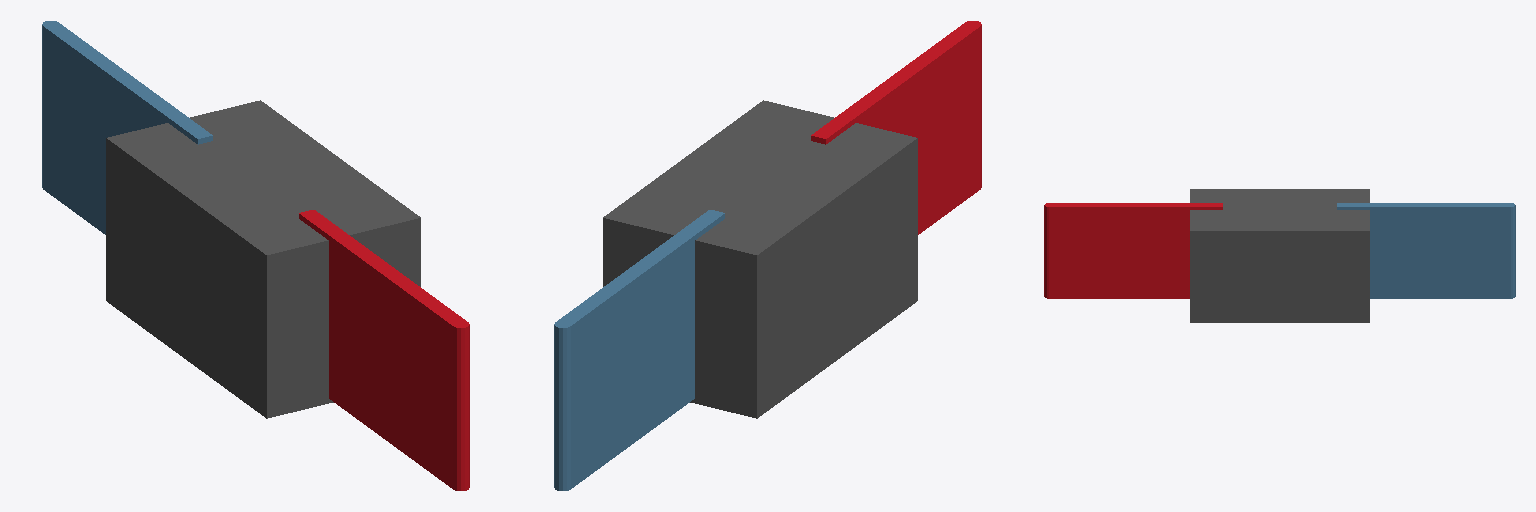
URDF robot description (simulation_assembly):
<?xml version="1.0" encoding="utf-8"?>
<!-- This URDF was automatically created by SolidWorks to URDF Exporter! Originally created by [author] ([email redacted])
     Commit Version: 1.5.1-0-g916b5db  Build Version: 1.5.7152.31018
     For more information, please see http://wiki.ros.org/sw_urdf_exporter -->
<robot
  name="simulation_assembly">
  <link
    name="base_link">
    <contact>
        <lateral_friction value="0.15"/>
        <angular_friction value="0.3"/>
    </contact>
    <inertial>
      <origin
        xyz="0 0 0.01515"
        rpy="0 0 0" />
      <mass
        value="0.033918" />
      <inertia
        ixx="1.0837E-05"
        ixy="0"
        ixz="0"
        iyy="5.1389E-06"
        iyz="0"
        izz="1.0786E-05" />
    </inertial>
    <visual>
      <origin
        xyz="0 0 0"
        rpy="0 0 0" />
      <geometry>
        <mesh
          filename="../meshes/base_link.STL" />
      </geometry>
      <material
        name="gray">
        <color
          rgba="0.4 0.4 0.4 1" />
      </material>
    </visual>
    <collision>
      <origin
        xyz="0 0 0"
        rpy="0 0 0" />
      <geometry>
        <mesh
          filename="../meshes/base_link.STL" />
      </geometry>
    </collision>
  </link>
  <link
    name="arm_left">
    <contact>
        <lateral_friction value="0"/>
    </contact>
    <inertial>
      <origin
        xyz="0.029809 -0.018645 5.48789273350911E-19"
        rpy="0 0 0" />
      <mass
        value="0.0039781" />
      <inertia
        ixx="5.233E-07"
        ixy="-8.0787E-08"
        ixz="0"
        iyy="6.4754E-07"
        iyz="0"
        izz="1.1611E-06" />
    </inertial>
    <visual>
      <origin
        xyz="0 0 0"
        rpy="0 0 0" />
      <geometry>
        <mesh
          filename="../meshes/arm.STL" />
      </geometry>
      <material
        name="blue">
        <color
          rgba="0.36 0.54 0.66 1" />
      </material>
    </visual>
    <collision>
      <origin
        xyz="0 0 0"
        rpy="0 0 0" />
      <geometry>
        <mesh
          filename="../meshes/arm.STL" />
      </geometry>
    </collision>
  </link>
  <joint
    name="servo_left"
    type="revolute">
    <origin
      xyz="-0.0015 0.0212 0.001"
      rpy="0 0 1.57075" />
    <parent
      link="base_link" />
    <child
      link="arm_left" />
    <axis
      xyz="0 0 1" />
    <limit
      lower="-1.8"
      upper="1.8"
      effort="0.01"
      velocity="6" />
  </joint>
  <link
    name="arm_right">
    <contact>
        <lateral_friction value="0"/>
    </contact>
    <inertial>
      <origin
        xyz="0.029809 -0.018645 5.48789273350911E-19"
        rpy="0 0 0" />
      <mass
        value="0.0039781" />
      <inertia
        ixx="5.233E-07"
        ixy="-8.0787E-08"
        ixz="0"
        iyy="6.4754E-07"
        iyz="0"
        izz="1.1611E-06" />
    </inertial>
    <visual>
      <origin
        xyz="0 0 0"
        rpy="0 0 0" />
      <geometry>
        <mesh
          filename="../meshes/arm.STL" />
      </geometry>
      <material
        name="red">
        <color
          rgba="0.83 0.13 0.18 1" />
      </material>
    </visual>
    <collision>
      <origin
        xyz="0 0 0"
        rpy="0 0 0" />
      <geometry>
        <mesh
          filename="../meshes/arm.STL" />
      </geometry>
    </collision>
  </link>
  <joint
    name="servo_right"
    type="revolute">
    <origin
      xyz="-0.0015 -0.0212 0.001"
      rpy="0 0 -1.57075" />
    <parent
      link="base_link" />
    <child
      link="arm_right" />
    <axis
      xyz="0 0 1" />
    <limit
      lower="-1.8"
      upper="1.8"
      effort="0.01"
      velocity="6" />
  </joint>
</robot>

--- What the picture shows (computed from the rendered views, not written in the file) ---
Views: 3 orthographic renders of the robot side by side, from view 1: azimuth 30°, elevation 25°; view 2: azimuth 150°, elevation 25°; view 3: azimuth 270°, elevation 25°.
Robot: simulation_assembly — 3 links, 2 joints (2 revolute); root link base_link; default pose: all joints at 0.
Visible links, largest first — view 1: base_link, arm_right, arm_left; view 2: base_link, arm_left, arm_right; view 3: base_link, arm_left, arm_right.
Boxes of the visible links, bbox=[...] form: base_link: bbox=[106, 100, 420, 418]; arm_right: bbox=[299, 210, 469, 490]; arm_left: bbox=[42, 21, 212, 234]; base_link: bbox=[603, 100, 917, 418]; arm_left: bbox=[554, 210, 724, 490]; arm_right: bbox=[811, 21, 981, 234]; base_link: bbox=[1190, 189, 1369, 322]; arm_left: bbox=[1337, 203, 1515, 298]; arm_right: bbox=[1044, 203, 1222, 298].
Bounding box of the posed robot: 0.03 × 0.1409 × 0.0313 m (x, y, z).
Meshes: 2 distinct files referenced, 3 mesh visuals loaded (2 binary STL).